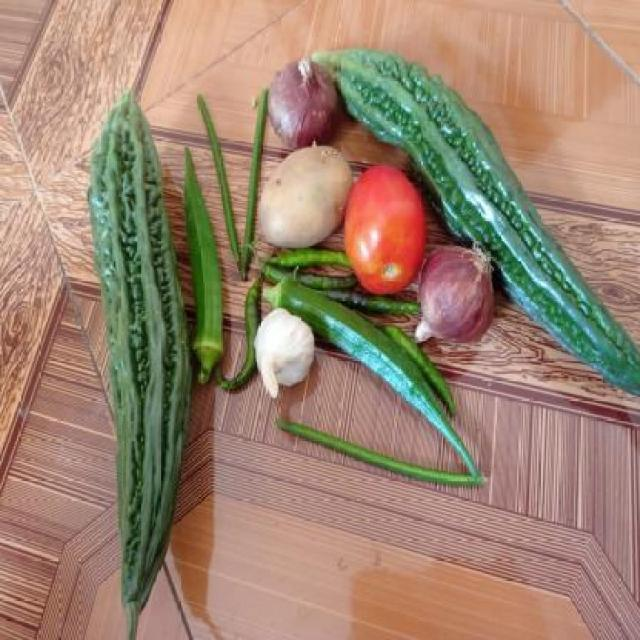Bitter melon: (86, 90, 196, 632)
Garlic: (256, 308, 316, 408)
Lady finger: (176, 142, 230, 390)
Onion: (412, 238, 503, 349), (262, 58, 342, 146)
Potato: (256, 152, 352, 252)
Tomato: (346, 164, 428, 284)
